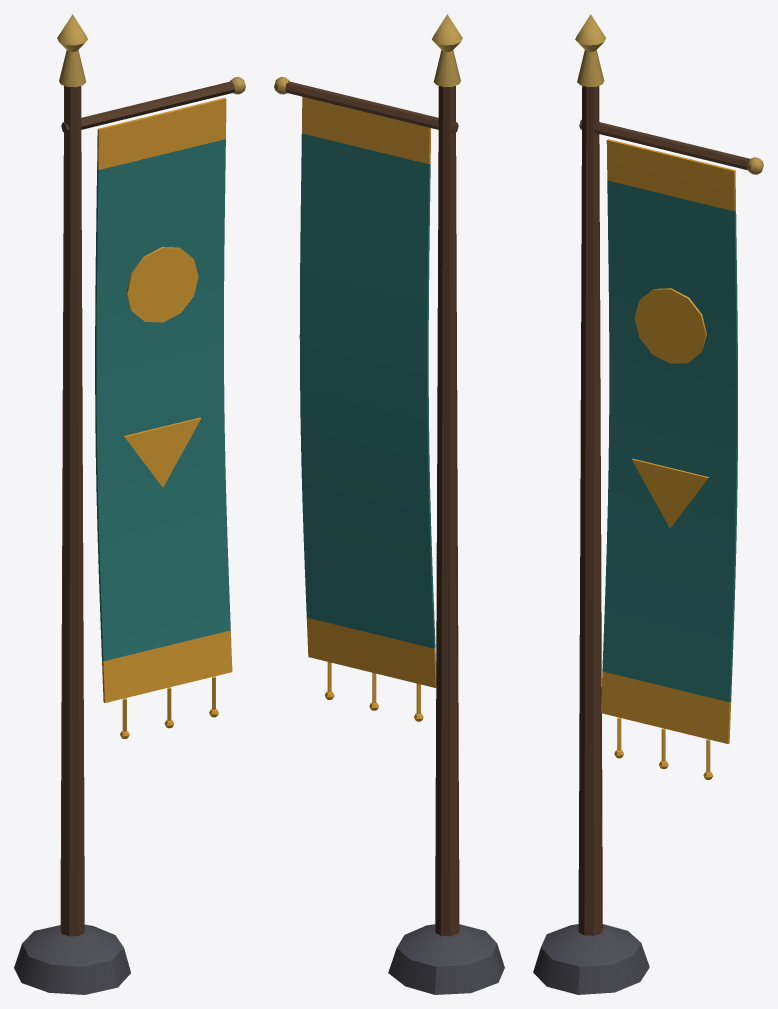
File: deco_banner_pole_single.fbx
3 renders of one model, left to right at view 1: azimuth 30°, elevation 25°; view 2: azimuth 150°, elevation 25°; view 3: azimuth 330°, elevation 25°, orthographic.
Parts seen in each view (by area): view 1: BannerPole_Single_Banner, BannerPole_Single_Pole, BannerPole_Single_Arm; view 2: BannerPole_Single_Banner, BannerPole_Single_Pole, BannerPole_Single_Arm; view 3: BannerPole_Single_Banner, BannerPole_Single_Pole, BannerPole_Single_Arm.
Part boxes in pixels (left/top/right/bottom): BannerPole_Single_Banner: left=95, top=97, right=232, bottom=738; BannerPole_Single_Pole: left=14, top=14, right=130, bottom=994; BannerPole_Single_Arm: left=61, top=77, right=245, bottom=133; BannerPole_Single_Banner: left=299, top=96, right=436, bottom=721; BannerPole_Single_Pole: left=388, top=14, right=504, bottom=994; BannerPole_Single_Arm: left=274, top=77, right=458, bottom=133; BannerPole_Single_Banner: left=601, top=139, right=737, bottom=779; BannerPole_Single_Pole: left=533, top=14, right=649, bottom=994; BannerPole_Single_Arm: left=579, top=119, right=763, bottom=174.
Bounding box in the file's own units: 132 × 538 × 58.33.
